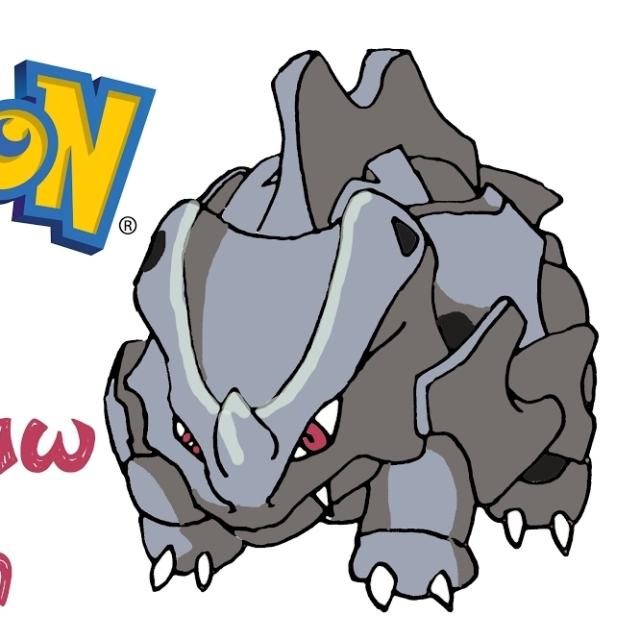Rhyhorn: (117, 43, 610, 608)
